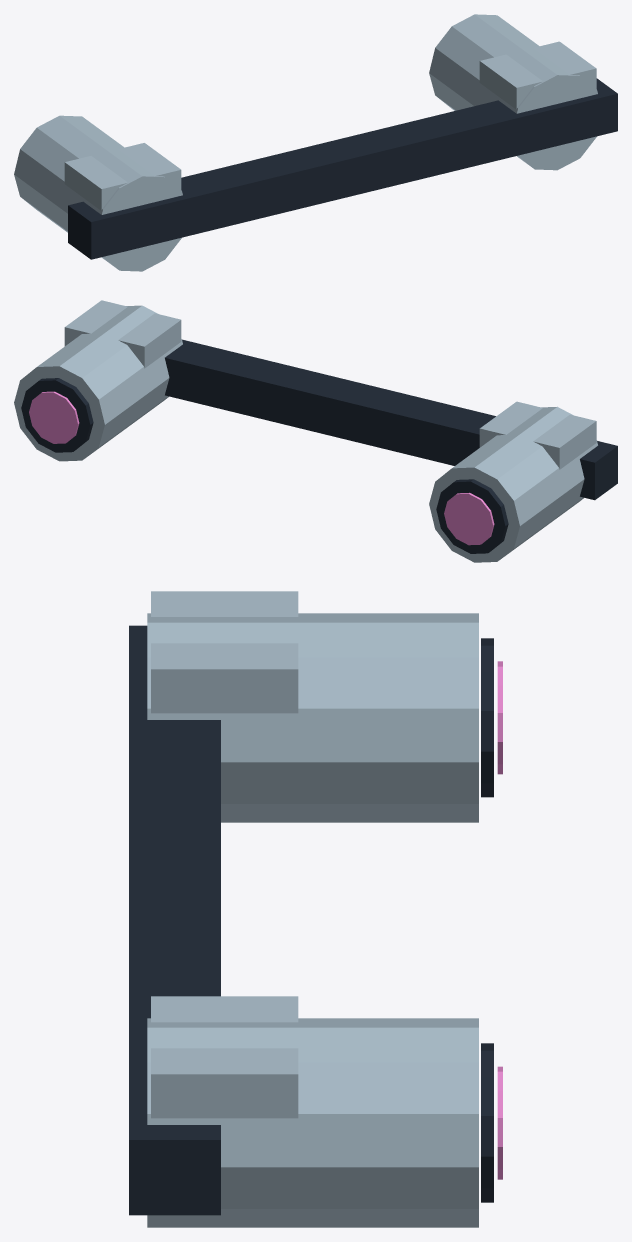
Rendered from violet.glb.
3 renders of one model, top to bottom at view 1: azimuth 30°, elevation 25°; view 2: azimuth 150°, elevation 25°; view 3: azimuth 270°, elevation 25°, orthographic. The views are drawn at different scales.
Visible parts, largest first — view 1: EffectAccessory; view 2: EffectAccessory; view 3: EffectAccessory.
Part boxes in pixels (box(x1,y1,x2,y2)): EffectAccessory: box(14, 14, 617, 271); EffectAccessory: box(14, 300, 617, 562); EffectAccessory: box(129, 591, 502, 1227).
Bounding box in the file's own units: 0.66 × 0.114 × 0.203.
